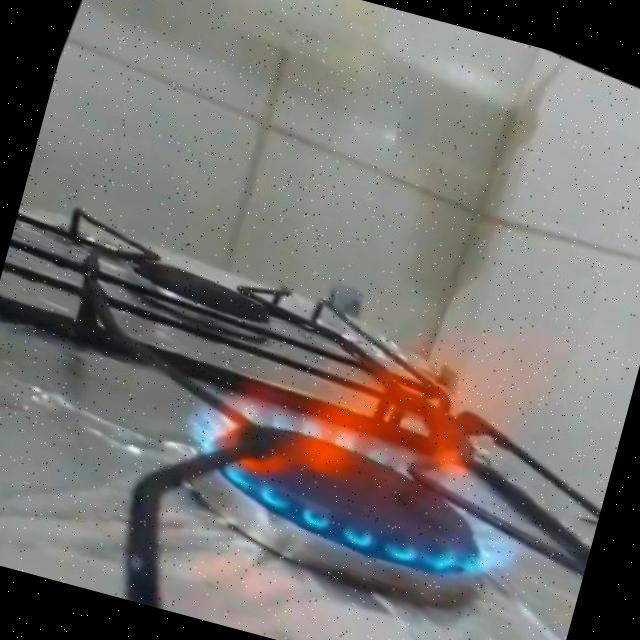fire: (146, 199, 620, 621)
